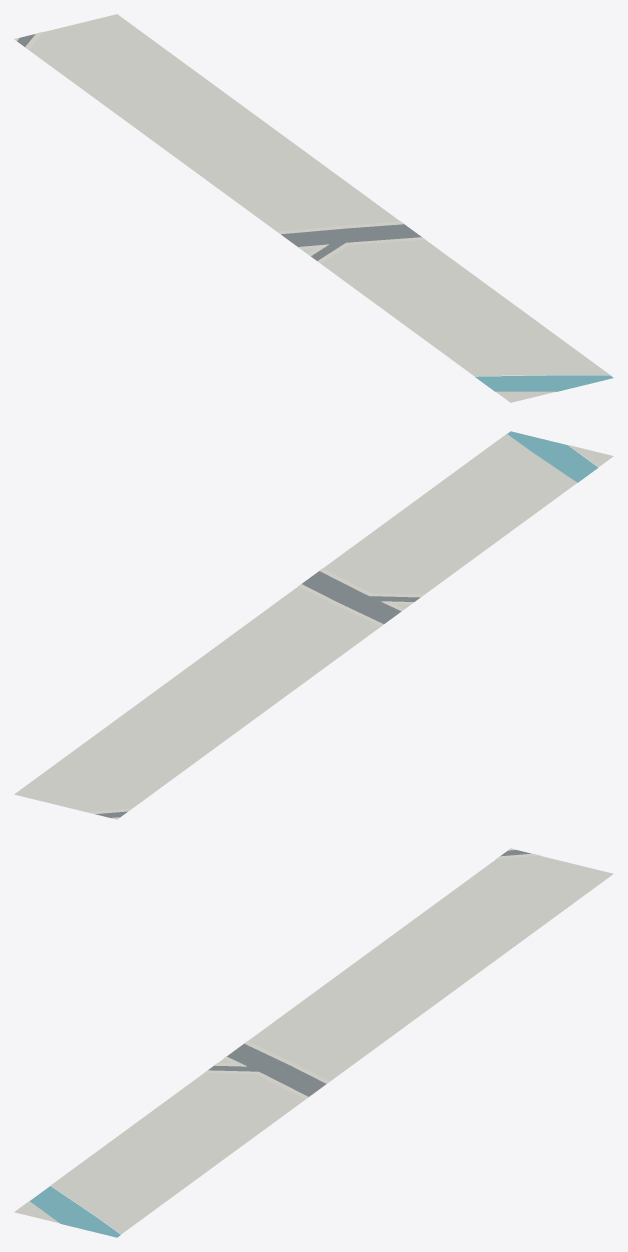
The picture shows the model from 3 angles, top to bottom: view 1: azimuth 30°, elevation 25°; view 2: azimuth 150°, elevation 25°; view 3: azimuth 330°, elevation 25°; orthographic projection.
Parts seen in each view (by area): view 1: city; view 2: city; view 3: city.
Boxes of the visible parts, x1,y1,x2,y2 form: city: (14,14,613,402); city: (14,431,613,819); city: (14,848,613,1237).
Bounding box in the file's own units: 60 × 0.4 × 500.
